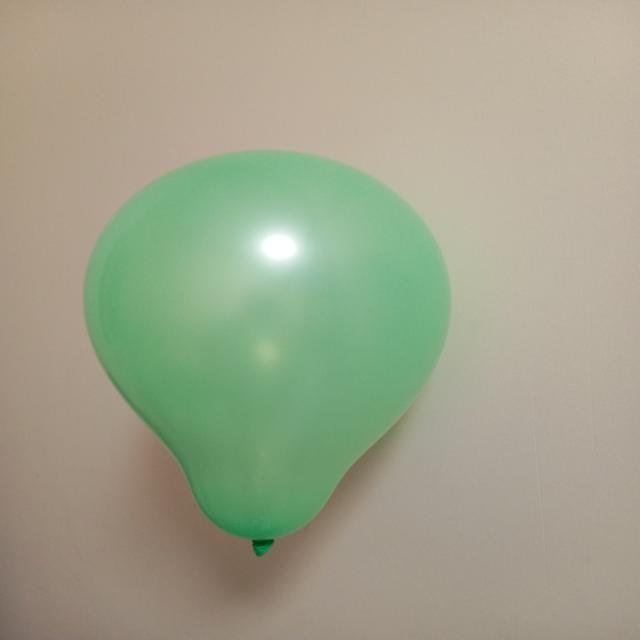balloon: (84, 151, 450, 541)
